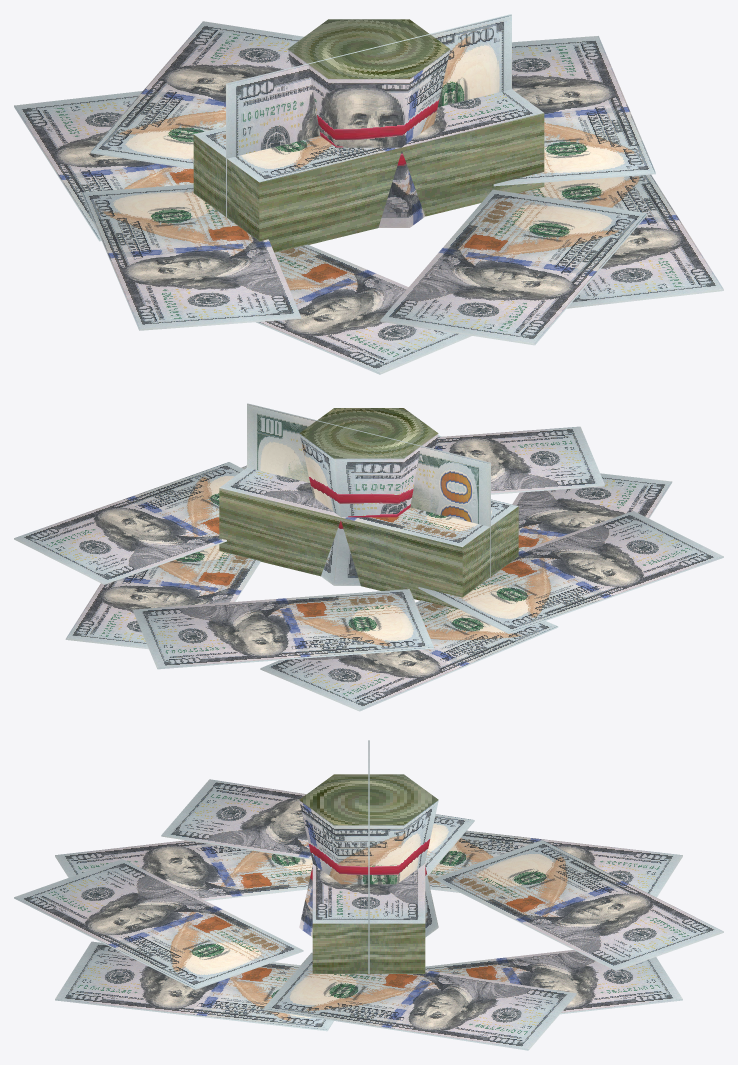
Rendered from Low-Rez_Money_Packed.glb.
The picture shows the model from 3 angles, top to bottom: view 1: azimuth 30°, elevation 25°; view 2: azimuth 150°, elevation 25°; view 3: azimuth 270°, elevation 25°; orthographic projection. The views are drawn at different scales.
Visible parts, largest first — view 1: Single-Note.002, Pile-Of-Notes, Brick-Of-Notes, Wad-Of-Notes, Single-Note; view 2: Single-Note.002, Pile-Of-Notes, Brick-Of-Notes, Wad-Of-Notes, Single-Note; view 3: Single-Note.002, Pile-Of-Notes, Wad-Of-Notes, Brick-Of-Notes.
Part boxes in pixels (x1=…): Single-Note.002: x1=82, y1=21, x2=655, y2=345; Pile-Of-Notes: x1=14, y1=91, x2=723, y2=374; Brick-Of-Notes: x1=193, y1=89, x2=544, y2=252; Wad-Of-Notes: x1=287, y1=19, x2=450, y2=227; Single-Note: x1=226, y1=14, x2=511, y2=217; Single-Note.002: x1=14, y1=426, x2=723, y2=669; Pile-Of-Notes: x1=65, y1=435, x2=672, y2=711; Brick-Of-Notes: x1=219, y1=467, x2=518, y2=609; Wad-Of-Notes: x1=299, y1=408, x2=438, y2=585; Single-Note: x1=247, y1=403, x2=490, y2=576; Single-Note.002: x1=14, y1=779, x2=723, y2=1050; Pile-Of-Notes: x1=55, y1=830, x2=682, y2=1031; Wad-Of-Notes: x1=299, y1=774, x2=438, y2=937; Brick-Of-Notes: x1=312, y1=863, x2=425, y2=973.
Bounding box in the file's own units: 0.0453 × 0.0101 × 0.0503.
3 materials, 3 textured.
